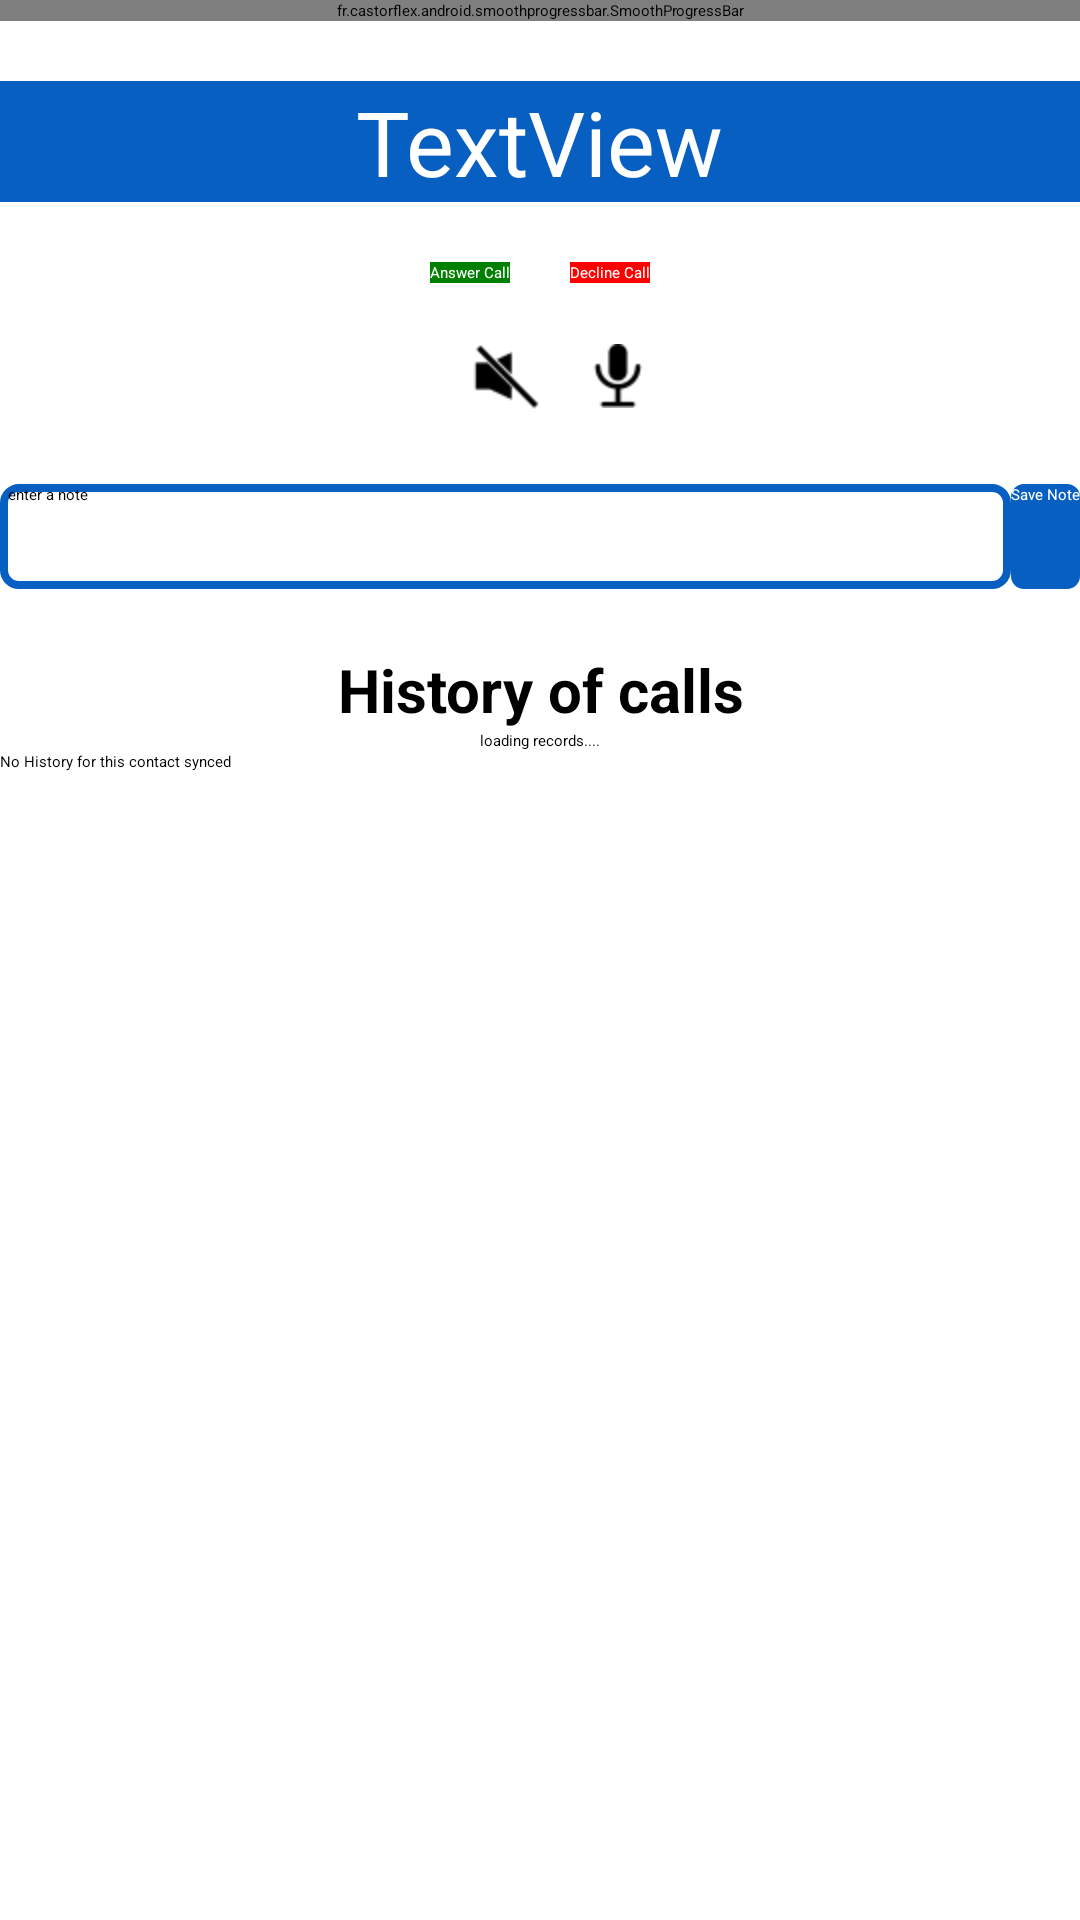

Icons on this 1080px x 1920px Android screen, each with its box as (x1=x1, y1=y1, x2=x2, y2=y2):
mute calls: (x1=474, y1=345, x2=539, y2=409)
record call: (x1=594, y1=344, x2=642, y2=408)
